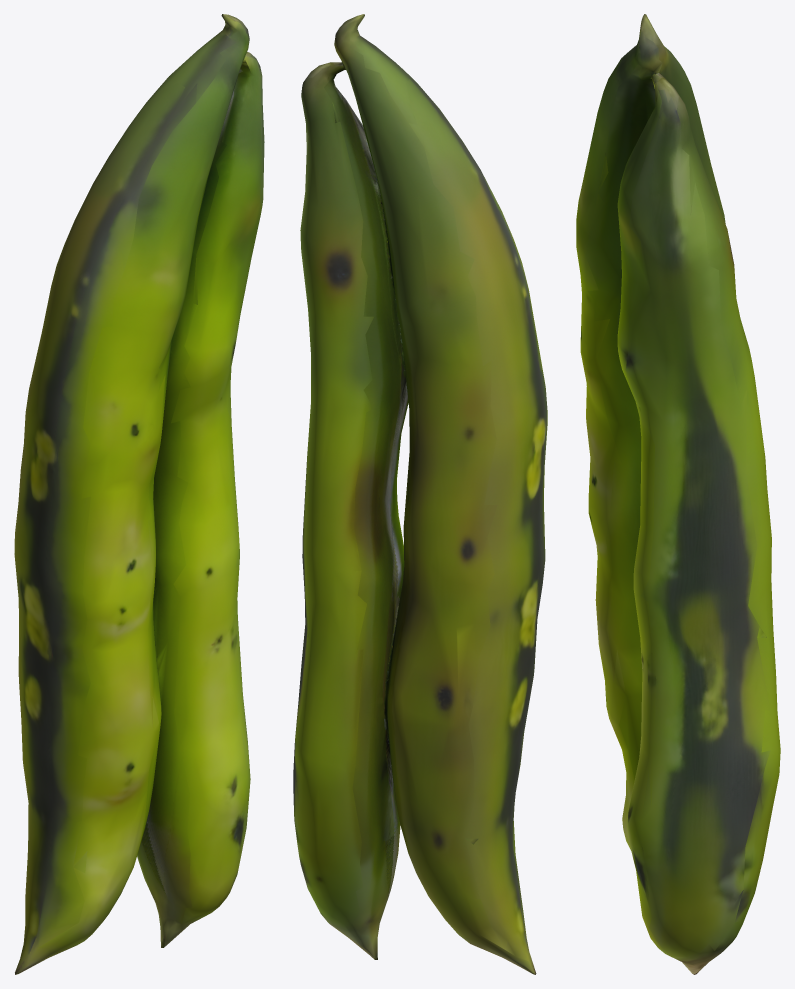
The model's file is Meshy_AI_Fava_bean_0210153636_texture_decimated.obj.
The picture shows the model from 3 angles, left to right: view 1: azimuth 30°, elevation 25°; view 2: azimuth 150°, elevation 25°; view 3: azimuth 270°, elevation 25°; orthographic projection. The views are drawn at different scales.
Visible parts, largest first — view 1: Meshy_AI_Fava_bean_0210153636_texture; view 2: Meshy_AI_Fava_bean_0210153636_texture; view 3: Meshy_AI_Fava_bean_0210153636_texture.
Boxes of the visible parts, x1,y1,x2,y2 form: Meshy_AI_Fava_bean_0210153636_texture: [14, 14, 264, 974]; Meshy_AI_Fava_bean_0210153636_texture: [293, 14, 547, 974]; Meshy_AI_Fava_bean_0210153636_texture: [576, 14, 780, 974].
Size of the model in its own units: 0.5371 by 2 by 0.3786.
1 material, 1 textured.
